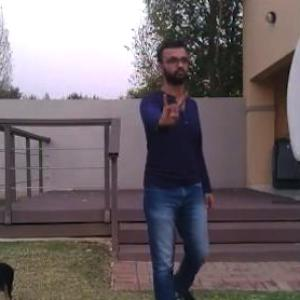takeoff-hand: (154, 83, 191, 129)
